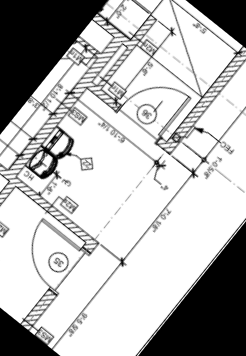door: (8, 213, 90, 294), (118, 66, 195, 144)
wall: (3, 34, 126, 181), (0, 149, 105, 253), (157, 44, 246, 159), (90, 9, 147, 60), (16, 280, 63, 332), (93, 46, 134, 92), (122, 11, 162, 55), (84, 79, 125, 116), (0, 178, 18, 244)
